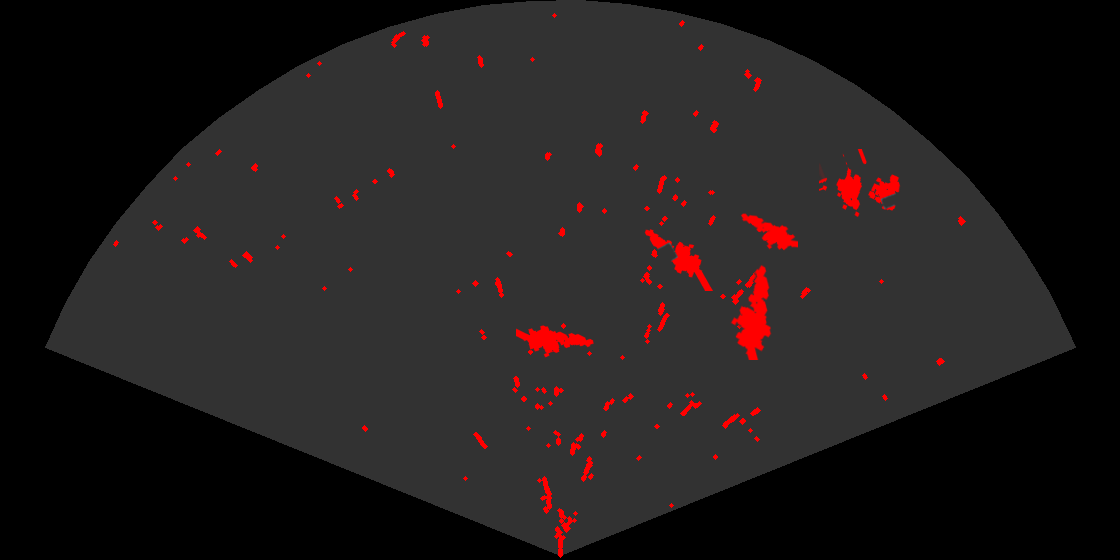cage: (819, 149, 902, 219)
frogman: (643, 228, 713, 291), (729, 263, 773, 360), (516, 324, 595, 359), (739, 212, 798, 252)
